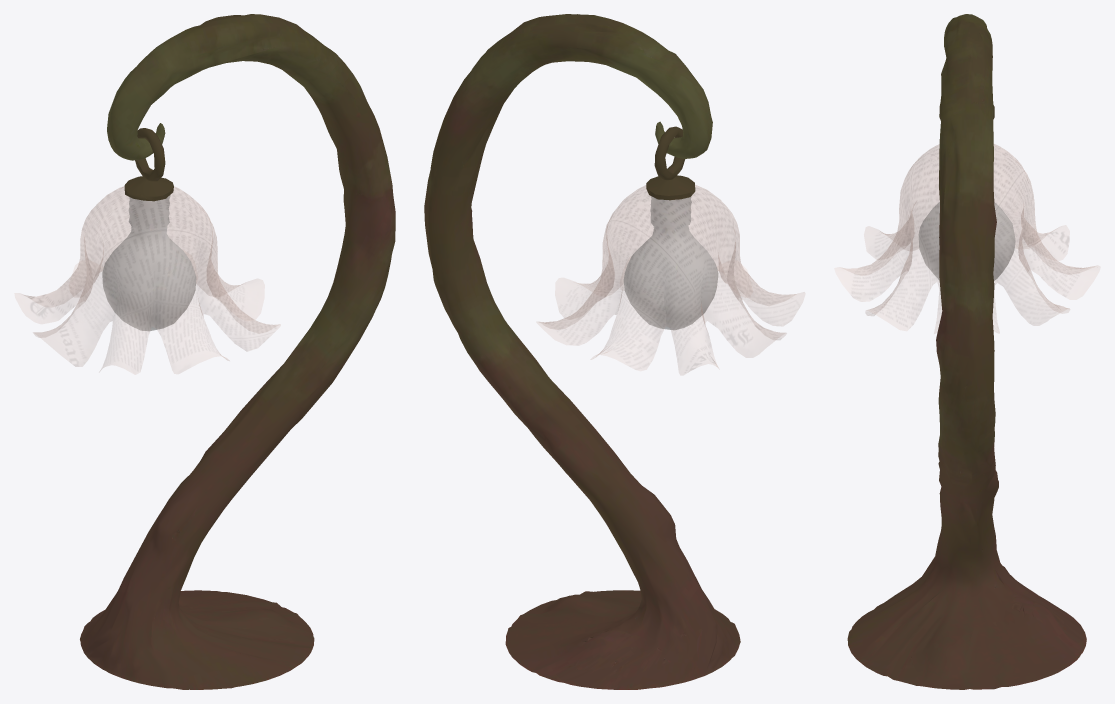
File: lamp_floor.glb
The picture shows the model from 3 angles, left to right: view 1: azimuth 30°, elevation 25°; view 2: azimuth 150°, elevation 25°; view 3: azimuth 270°, elevation 25°; orthographic projection.
Size of the model in its own units: 1.13 by 1.86 by 0.7216.
3 materials, 3 textured.
